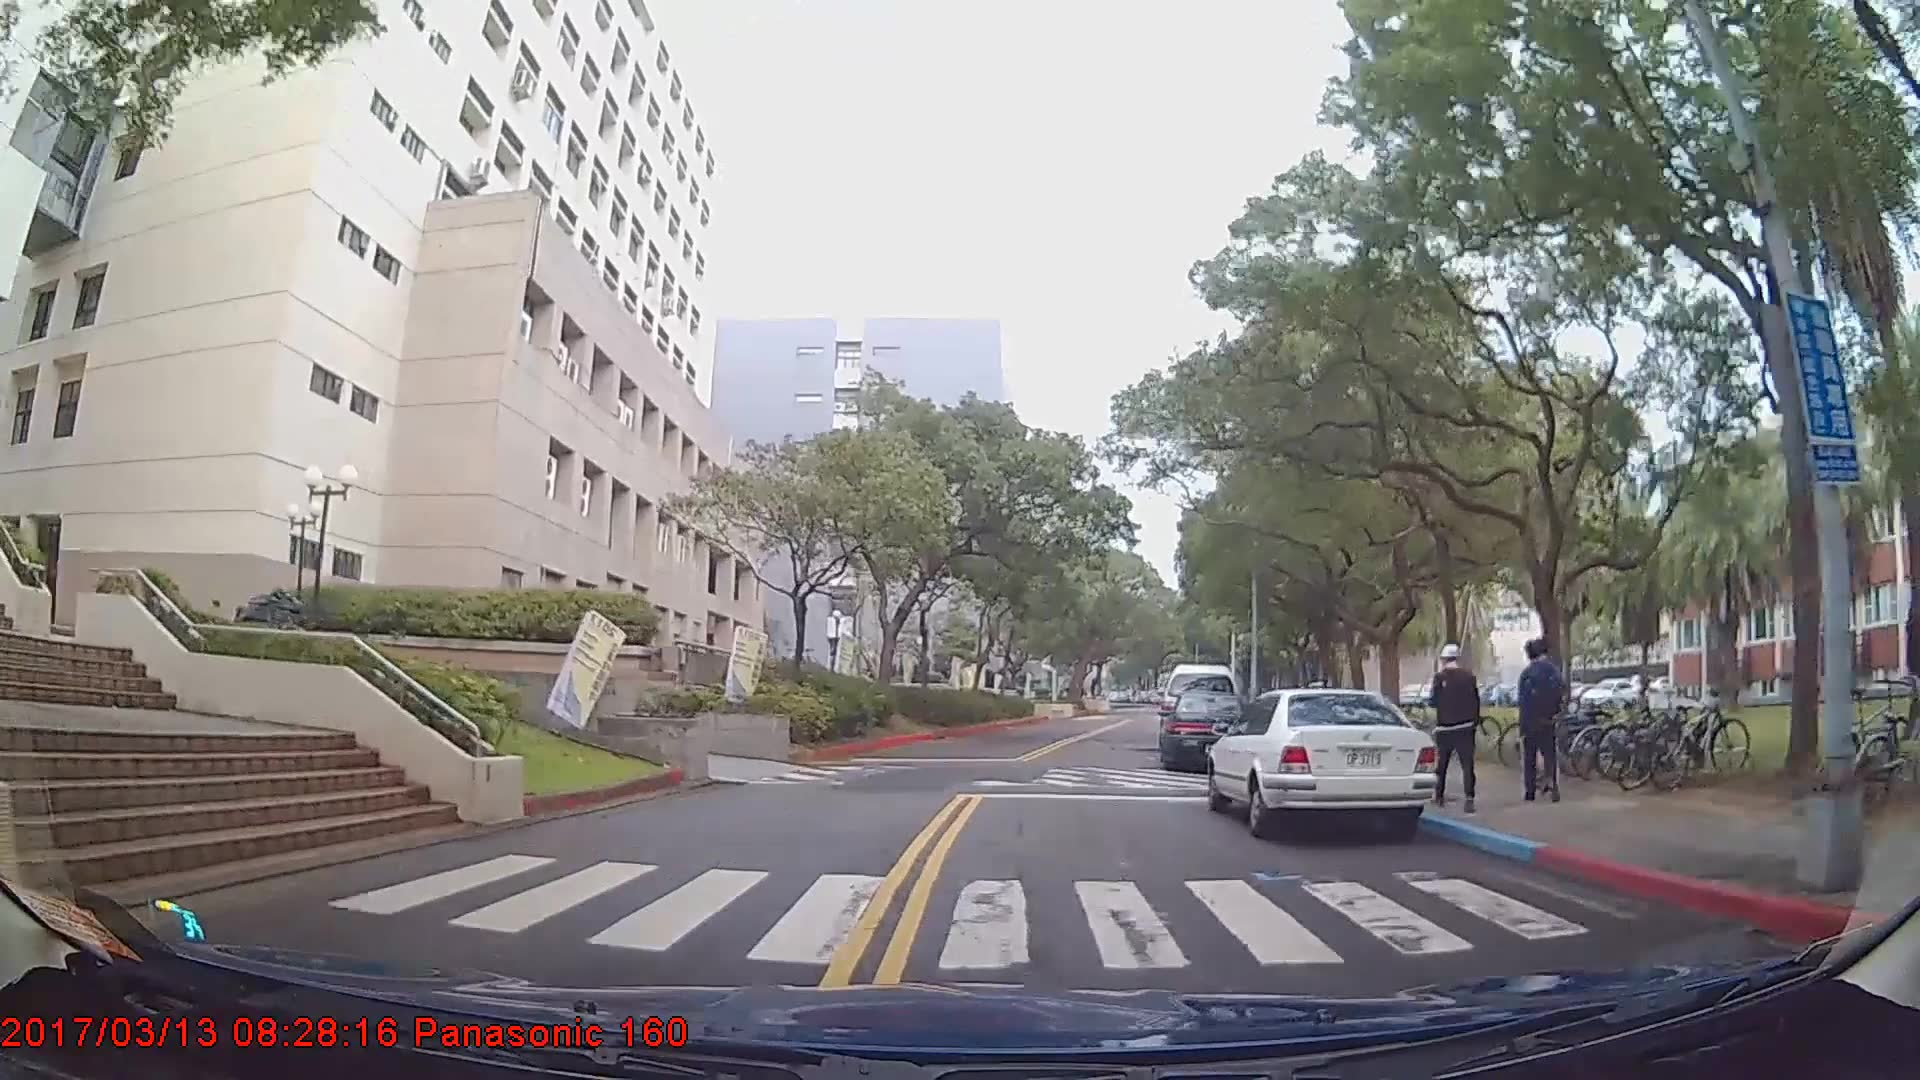pedestrian: (1513, 633, 1569, 805), (1430, 641, 1485, 807)
vehicle: (1206, 685, 1438, 838), (1160, 687, 1256, 768)
